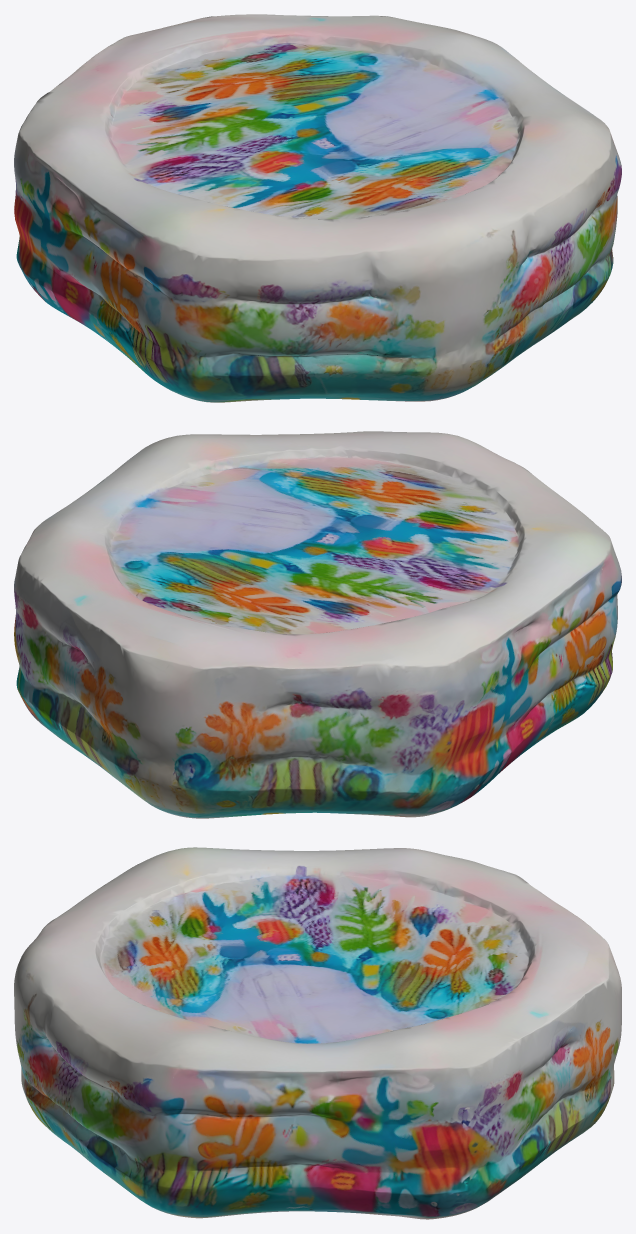
The model's file is BAZIN GONFLABIL COPII 191Х178Х61СМ «AKVARIUM».glb.
3 renders of one model, top to bottom at view 1: azimuth 30°, elevation 25°; view 2: azimuth 150°, elevation 25°; view 3: azimuth 270°, elevation 25°, orthographic.
Parts seen in each view (by area): view 1: tripo_node_f34abe8f-91c5-4bf7-bd6e-3023032d4d41; view 2: tripo_node_f34abe8f-91c5-4bf7-bd6e-3023032d4d41; view 3: tripo_node_f34abe8f-91c5-4bf7-bd6e-3023032d4d41.
Part boxes in pixels (<box>): tripo_node_f34abe8f-91c5-4bf7-bd6e-3023032d4d41: <box>14,14,621,402</box>; tripo_node_f34abe8f-91c5-4bf7-bd6e-3023032d4d41: <box>14,431,621,818</box>; tripo_node_f34abe8f-91c5-4bf7-bd6e-3023032d4d41: <box>14,847,621,1219</box>.
Bounding box in the file's own units: 0.8819 × 0.3956 × 0.9999.
Materials: 1 (1 with a texture image).
